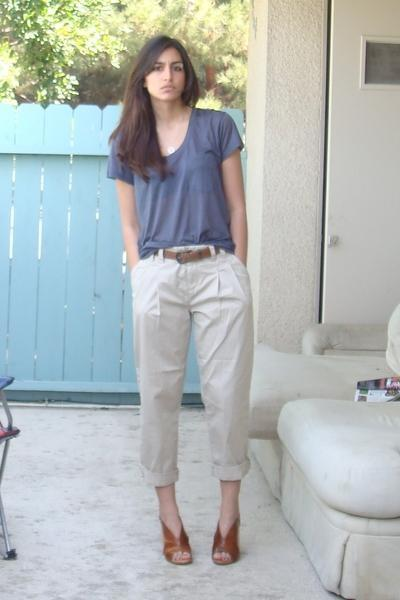pants: (122, 252, 258, 485)
shirt: (87, 91, 243, 258)
shoe: (163, 518, 239, 561)
